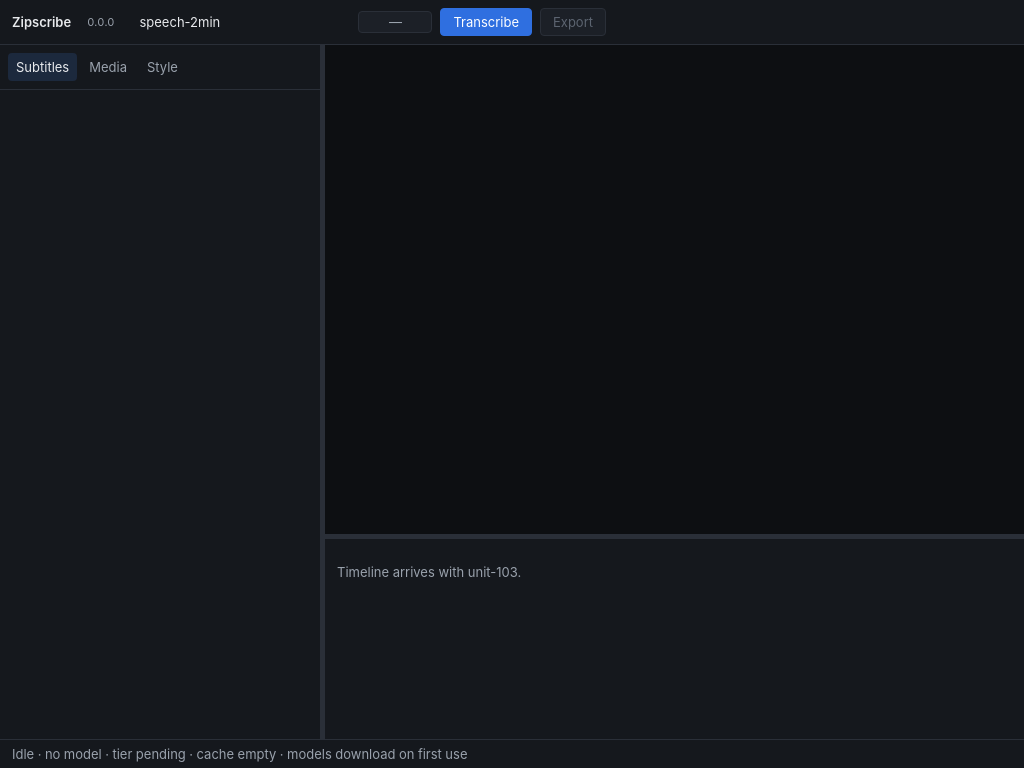
Test: CC-101.1: workbench layout primitives › CC-101.1: the shell renders three focusable regions, resize handles, the reserved canvas layer and the Style placeholder
Check: the element with test id "preview-canvas-layer" is shown, box left=325, top=45, right=1023, bottom=534
Click the tab with test id "tab-style".
click(162, 67)  # box left=139, top=53, right=186, bottom=81
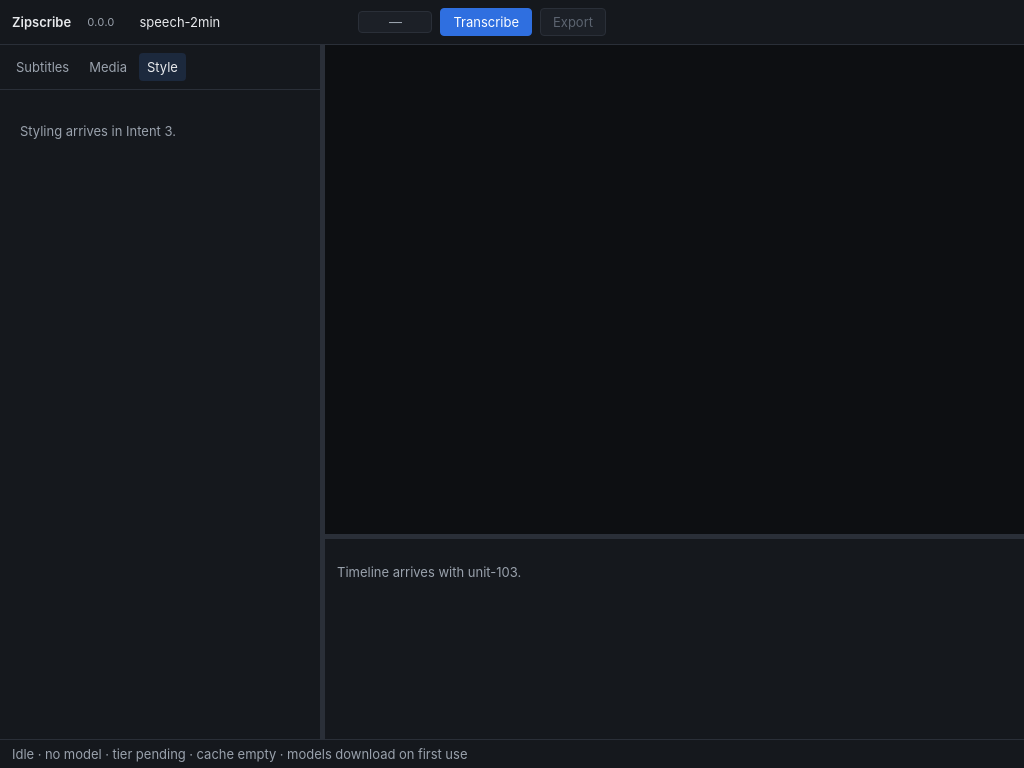
Check: the panel with id "tabpanel-style" is shown, box left=20, top=123, right=176, bottom=139
